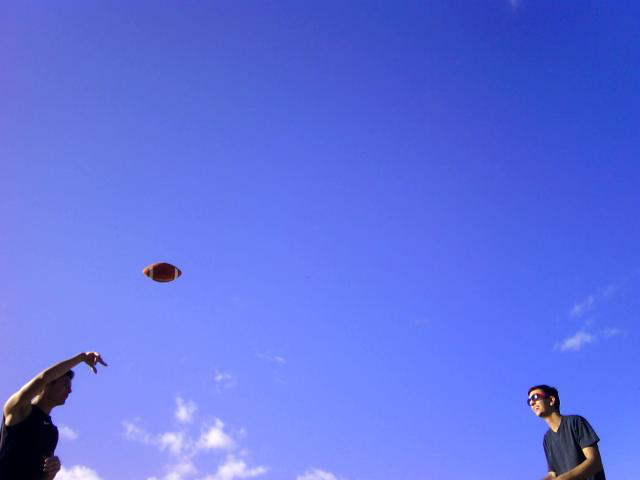football: (139, 261, 187, 287)
